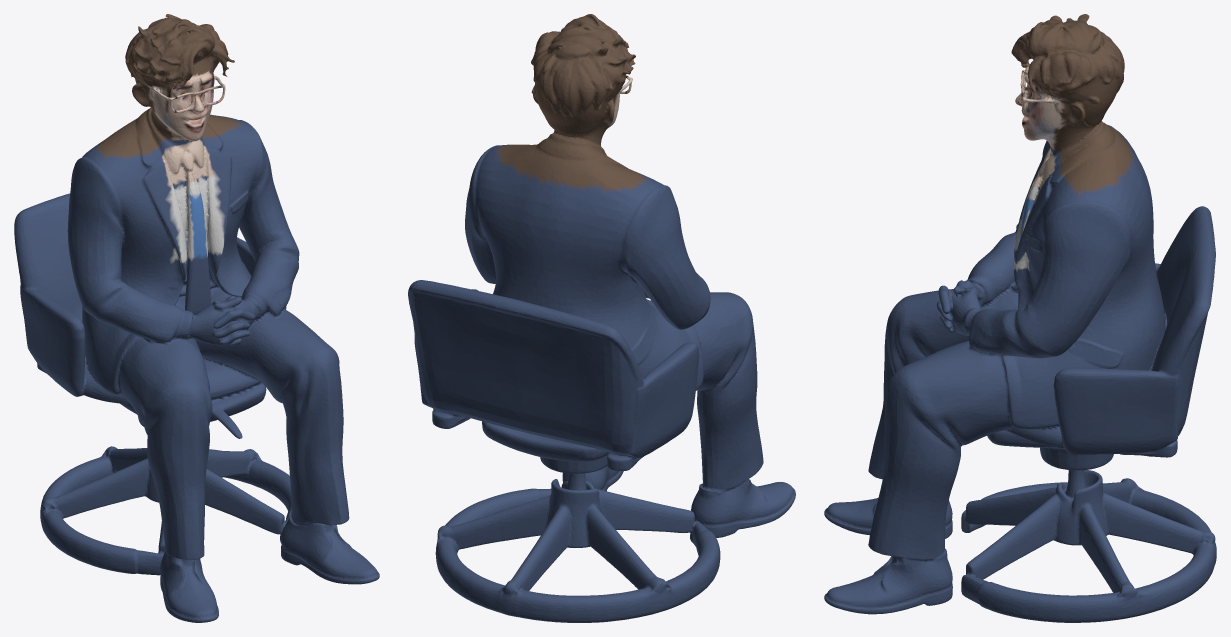
The model's file is alex_hrd.glb.
The picture shows the model from 3 angles, left to right: view 1: azimuth 30°, elevation 25°; view 2: azimuth 150°, elevation 25°; view 3: azimuth 270°, elevation 25°; orthographic projection. The views are drawn at different scales.
Visible parts, largest first — view 1: mesh_node; view 2: mesh_node; view 3: mesh_node.
Part boxes in pixels (<box>): mesh_node: <box>14,14,379,622</box>; mesh_node: <box>408,14,795,622</box>; mesh_node: <box>824,14,1216,622</box>.
Size of the model in its own units: 0.9146 by 1.9 by 1.25.
